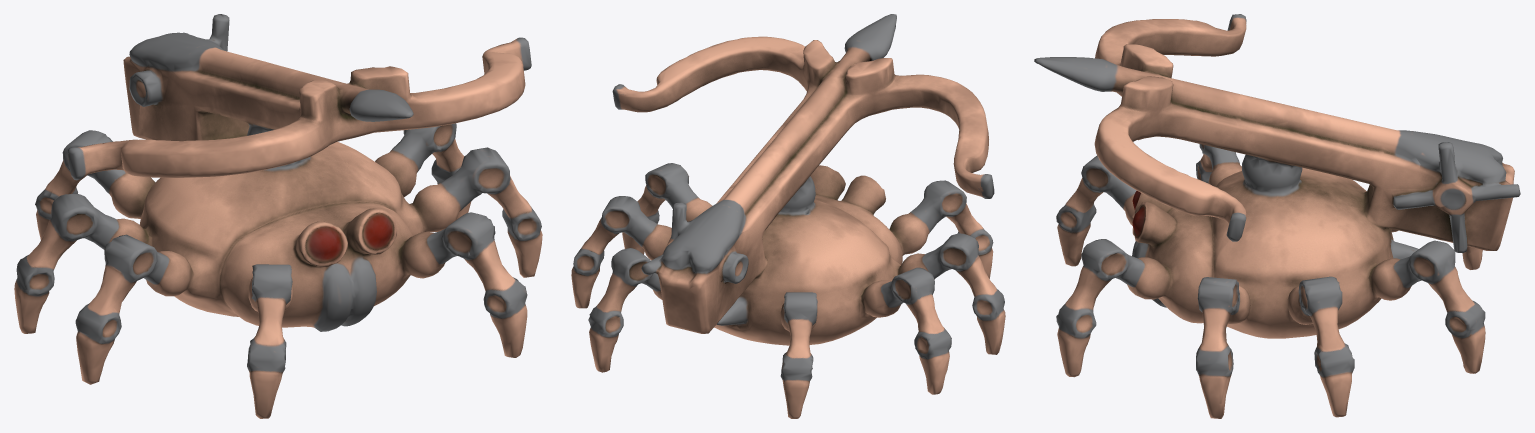
The model's file is MZ4250 - Artificer Spider Familiar - Copper.glb.
3 views of the same model, side by side, from view 1: azimuth 30°, elevation 25°; view 2: azimuth 150°, elevation 25°; view 3: azimuth 270°, elevation 25° (orthographic). The views are drawn at different scales.
Visible parts, largest first — view 1: Artificer Spider Familiar_low.001; view 2: Artificer Spider Familiar_low.001; view 3: Artificer Spider Familiar_low.001.
Part boxes in pixels (x1=…): Artificer Spider Familiar_low.001: x1=14, y1=14, x2=542, y2=418; Artificer Spider Familiar_low.001: x1=571, y1=14, x2=1005, y2=418; Artificer Spider Familiar_low.001: x1=1034, y1=14, x2=1520, y2=418.
Bounding box in the file's own units: 0.9976 × 0.5977 × 1.
Materials: 1 (1 with a texture image).
